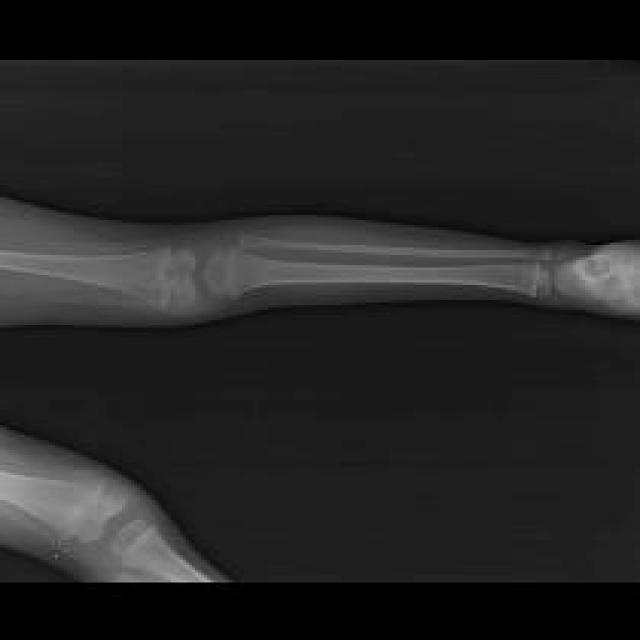normal: (3, 232, 638, 319), (2, 473, 207, 580)
